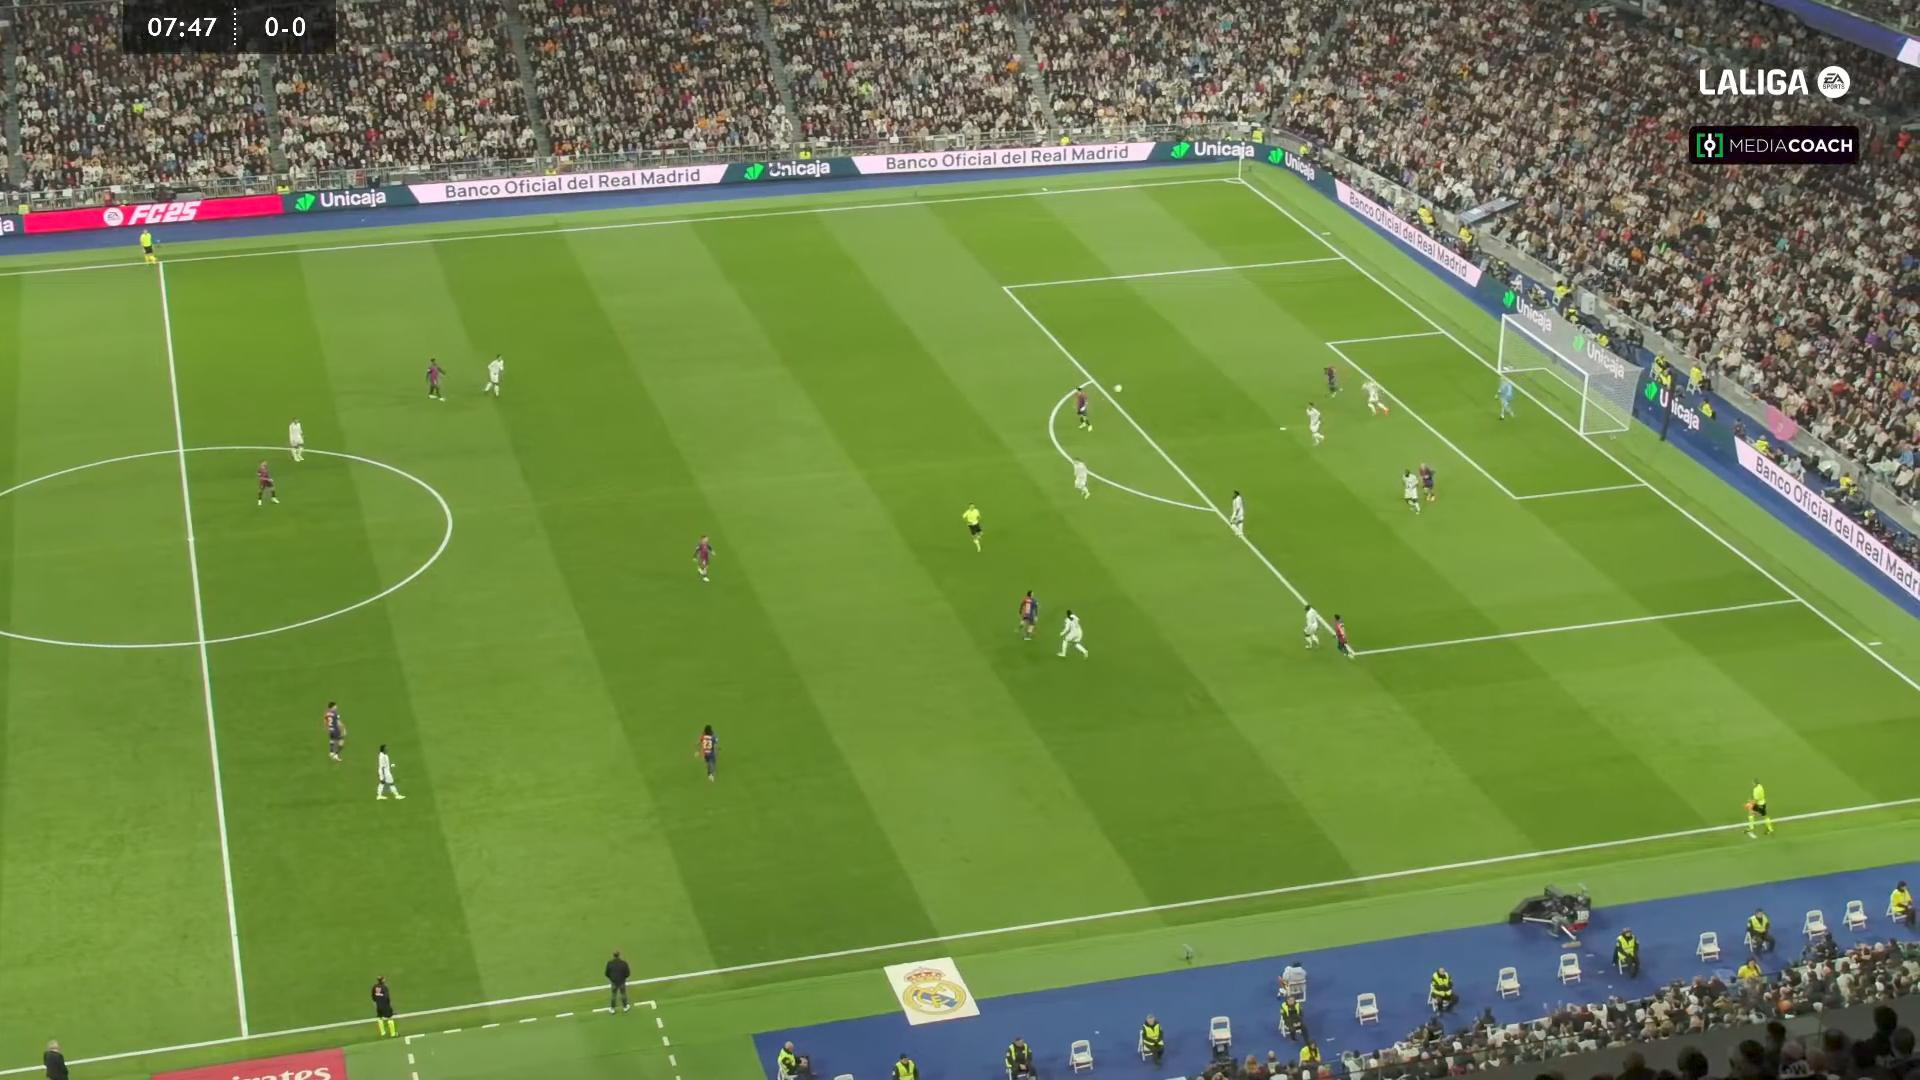ball: (1114, 383, 1123, 393)
goalkeeper: (1493, 374, 1515, 420)
player: (374, 743, 405, 800), (1055, 609, 1088, 659), (694, 724, 719, 782), (323, 700, 346, 761), (1017, 589, 1039, 641), (254, 459, 278, 506), (691, 534, 714, 581), (1331, 613, 1354, 659), (1360, 377, 1387, 415), (424, 356, 446, 401), (482, 353, 504, 397), (1072, 385, 1092, 431), (1401, 468, 1421, 514), (1304, 401, 1324, 446), (1301, 604, 1321, 649), (1070, 457, 1090, 500), (287, 416, 305, 462), (1228, 489, 1245, 535), (1323, 363, 1343, 400), (1420, 463, 1436, 504)
referee: (1742, 778, 1773, 839), (370, 975, 397, 1037), (961, 503, 983, 552), (139, 227, 157, 265)
staff: (604, 948, 630, 1012)
